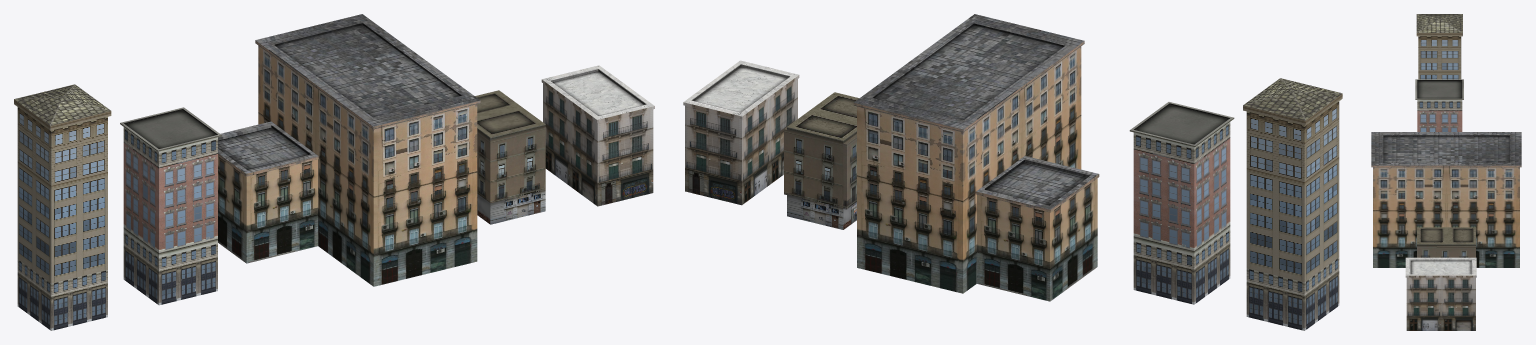
File: bcn_set3.FBX
3 views of the same model, side by side, from view 1: azimuth 30°, elevation 25°; view 2: azimuth 150°, elevation 25°; view 3: azimuth 270°, elevation 25° (orthographic). The views are drawn at different scales.
Parts seen in each view (by area): view 1: bcn_set3_03, bcn_set3_05, bcn_set3_04, bcn_set3_01, bcn_set3_02; view 2: bcn_set3_03, bcn_set3_05, bcn_set3_04, bcn_set3_01, bcn_set3_02; view 3: bcn_set3_03, bcn_set3_01, bcn_set3_05, bcn_set3_04, bcn_set3_02.
Part boxes in pixels (x1,y1,x2,y2): bcn_set3_03: (218,14,480,286); bcn_set3_05: (14,84,111,330); bcn_set3_04: (120,107,221,305); bcn_set3_01: (541,65,654,206); bcn_set3_02: (475,90,545,224); bcn_set3_03: (853,14,1099,301); bcn_set3_05: (1243,78,1342,330); bcn_set3_04: (1129,102,1234,304); bcn_set3_01: (683,60,799,205); bcn_set3_02: (784,92,859,229); bcn_set3_03: (1371,132,1521,267); bcn_set3_01: (1405,257,1476,330); bcn_set3_05: (1416,14,1462,79); bcn_set3_04: (1415,79,1463,131); bcn_set3_02: (1417,227,1475,257).
Bounding box in the file's own units: 10646 × 3657 × 3654.
